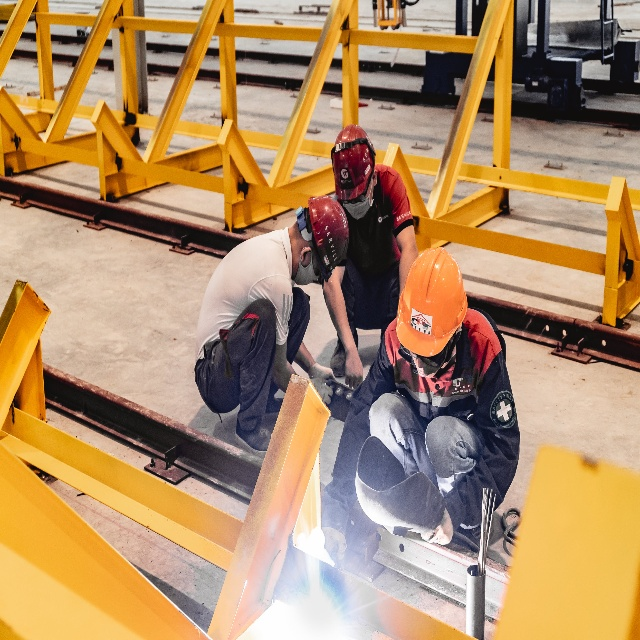Gafas: (400, 341, 450, 368), (340, 174, 372, 205)
Guantes: (321, 503, 348, 560), (310, 376, 333, 405), (308, 362, 336, 380)
Mascara: (344, 181, 375, 220), (294, 253, 321, 286)
Sin_guantes: (428, 506, 454, 546), (344, 346, 364, 389)
